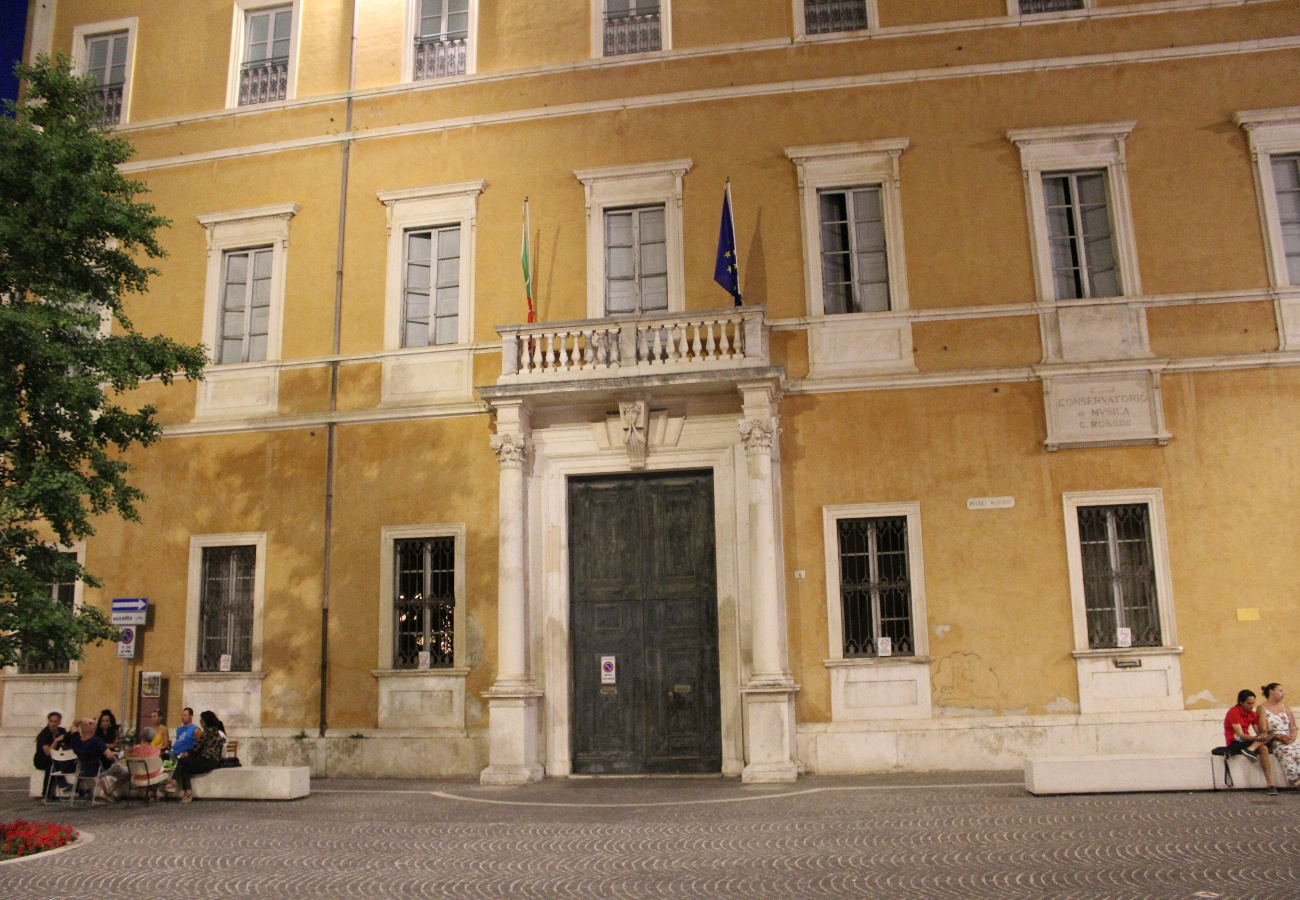Palazzo Olivieri: (75, 10, 1231, 787)
